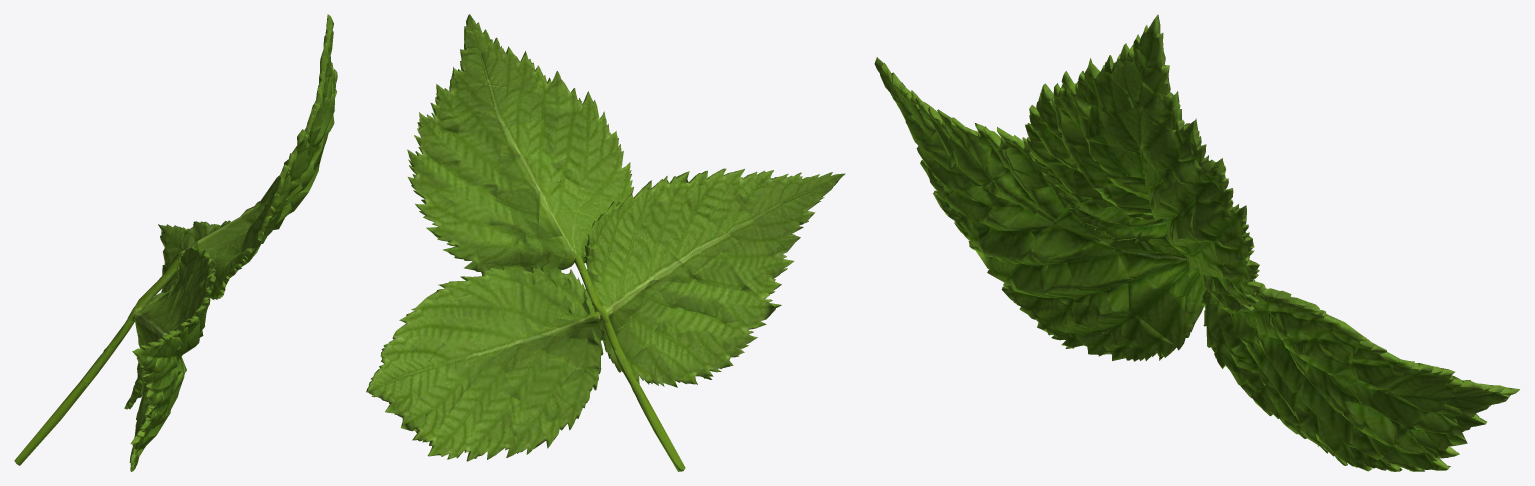
3 views of the same model, side by side, from view 1: azimuth 30°, elevation 25°; view 2: azimuth 150°, elevation 25°; view 3: azimuth 270°, elevation 25° (orthographic). The views are drawn at different scales.
Visible parts, largest first — view 1: Mesh; view 2: Mesh; view 3: Mesh.
Boxes of the visible parts, x1,y1,x2,y2 form: Mesh: (14,14,337,471); Mesh: (366,14,845,471); Mesh: (874,14,1519,471).
Bounding box in the file's own units: 1.55 × 1.79 × 1.99.
1 material, 1 textured.
